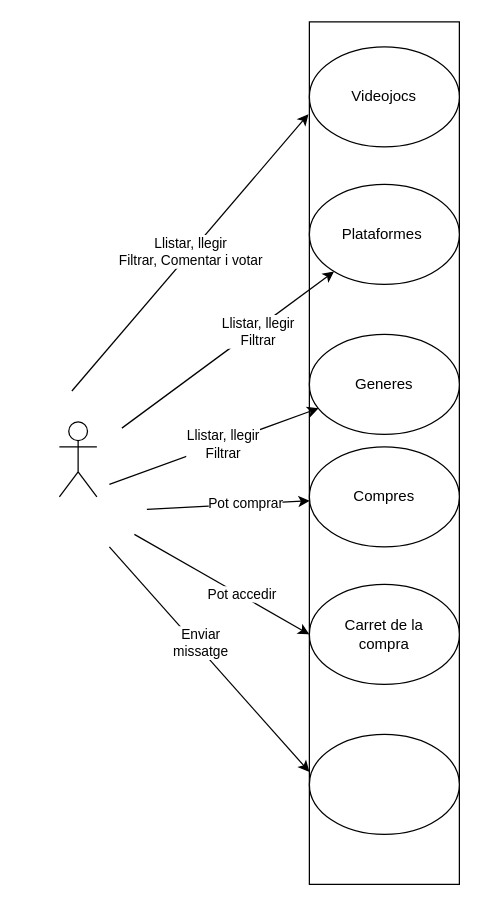
Image size: 481x906. Some labels were removed from this diagram. Each missing label, with the centre of its shape:
"Contacta con nosotros" belongs at pixel 383 783.
"Usuari no logejat" belongs at pixel 77 459.
